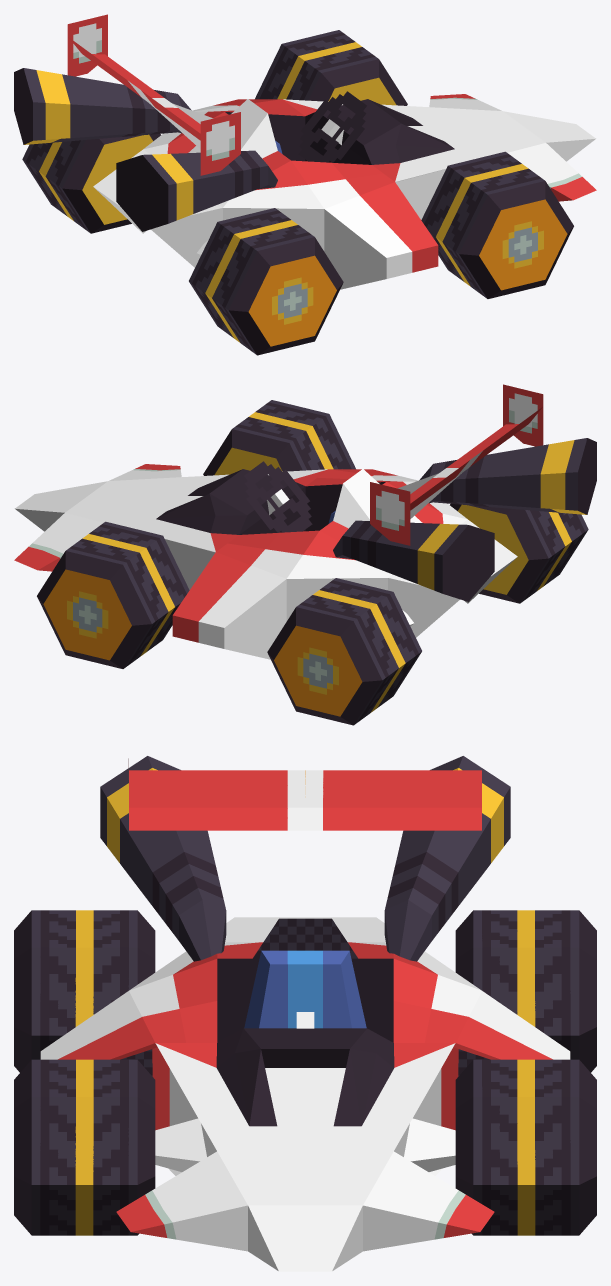
File: ash_kart.gltf
3 views of the same model, one above another, from view 1: azimuth 30°, elevation 25°; view 2: azimuth 150°, elevation 25°; view 3: azimuth 270°, elevation 25° (orthographic). The views are drawn at different scales.
Visible parts, largest first — view 1: Tires, Body, Rockets, Plane, Wheel; view 2: Tires, Body, Rockets, Plane, Wheel; view 3: Body, Tires, Rockets, Plane, Seat, Spikes.
Part boxes in pixels (x1,y1,x2,y2): Tires: [22, 30, 573, 355]; Body: [93, 94, 596, 289]; Rockets: [14, 68, 277, 231]; Plane: [67, 14, 240, 175]; Wheel: [298, 91, 366, 162]; Tires: [37, 400, 588, 725]; Body: [14, 464, 517, 659]; Rockets: [333, 438, 596, 601]; Plane: [370, 384, 543, 545]; Wheel: [244, 461, 312, 532]; Body: [40, 917, 570, 1271]; Tires: [14, 910, 596, 1235]; Rockets: [100, 756, 510, 961]; Plane: [128, 758, 481, 830]; Seat: [244, 950, 366, 1028]; Spikes: [155, 1118, 455, 1171].
Size of the model in its own units: 1.84 by 0.7293 by 1.37.
2 materials, 2 textured.
